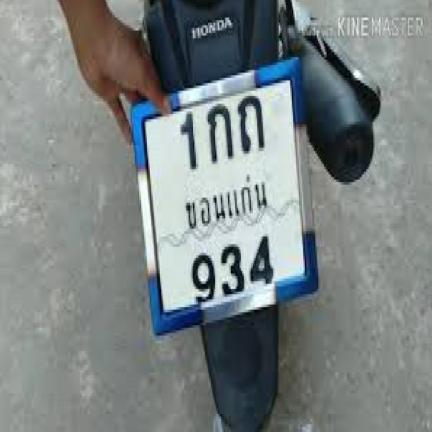1: (174, 112, 202, 172)
3: (216, 237, 250, 299)
4: (243, 222, 279, 290)
9: (184, 246, 219, 306)
A01: (235, 91, 266, 157), (206, 104, 234, 165)
KKN: (177, 171, 272, 242)
